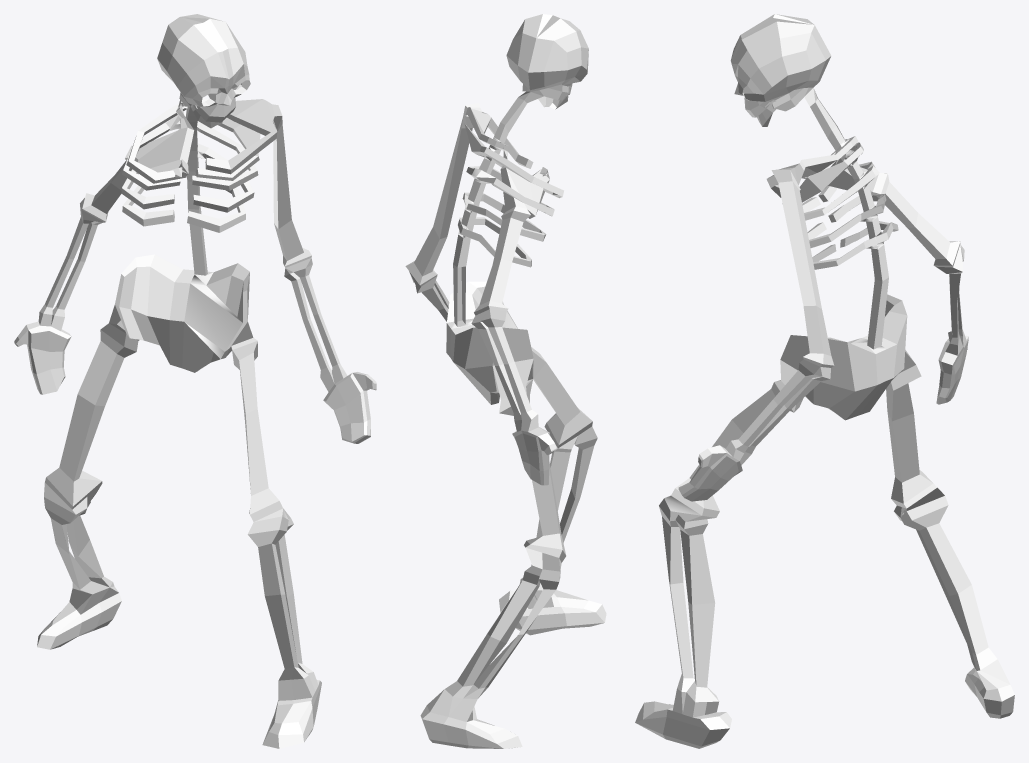
Rendered from SkeletonIdle(7).obj.
3 views of the same model, side by side, from view 1: azimuth 30°, elevation 25°; view 2: azimuth 150°, elevation 25°; view 3: azimuth 270°, elevation 25° (orthographic). The views are drawn at different scales.
Parts seen in each view (by area): view 1: Object002; view 2: Object002; view 3: Object002.
Boxes of the visible parts, left/top/right/bottom form: Object002: left=14, top=14, right=376, bottom=748; Object002: left=405, top=14, right=606, bottom=748; Object002: left=635, top=14, right=1014, bottom=748.
Bounding box in the file's own units: 402 × 1122 × 556.
